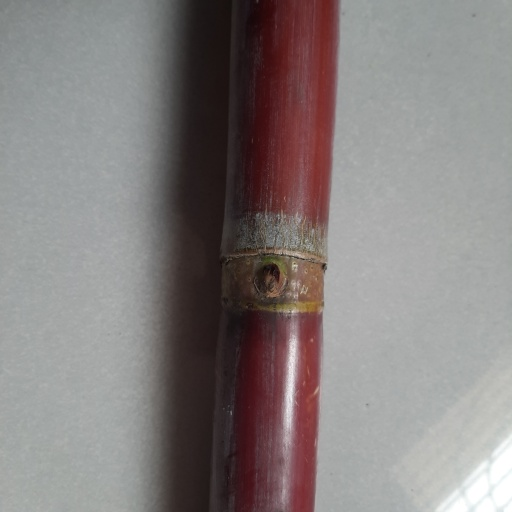Bud: (253, 263, 283, 297)
